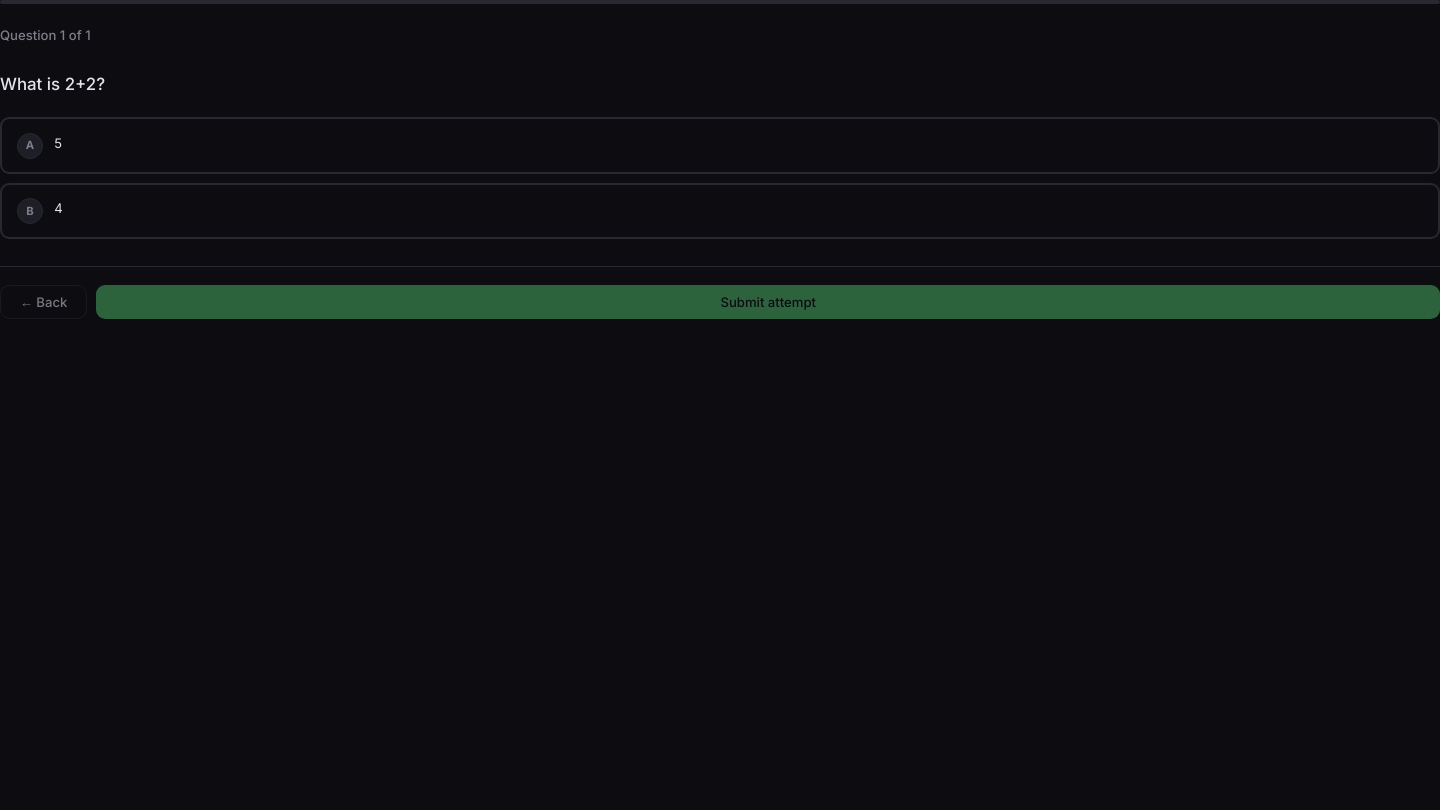
Test: AttemptFlow — attempt saving › skips DB insert when userId is null
Click the text "4" at (59, 208), box [54,200,63,216]
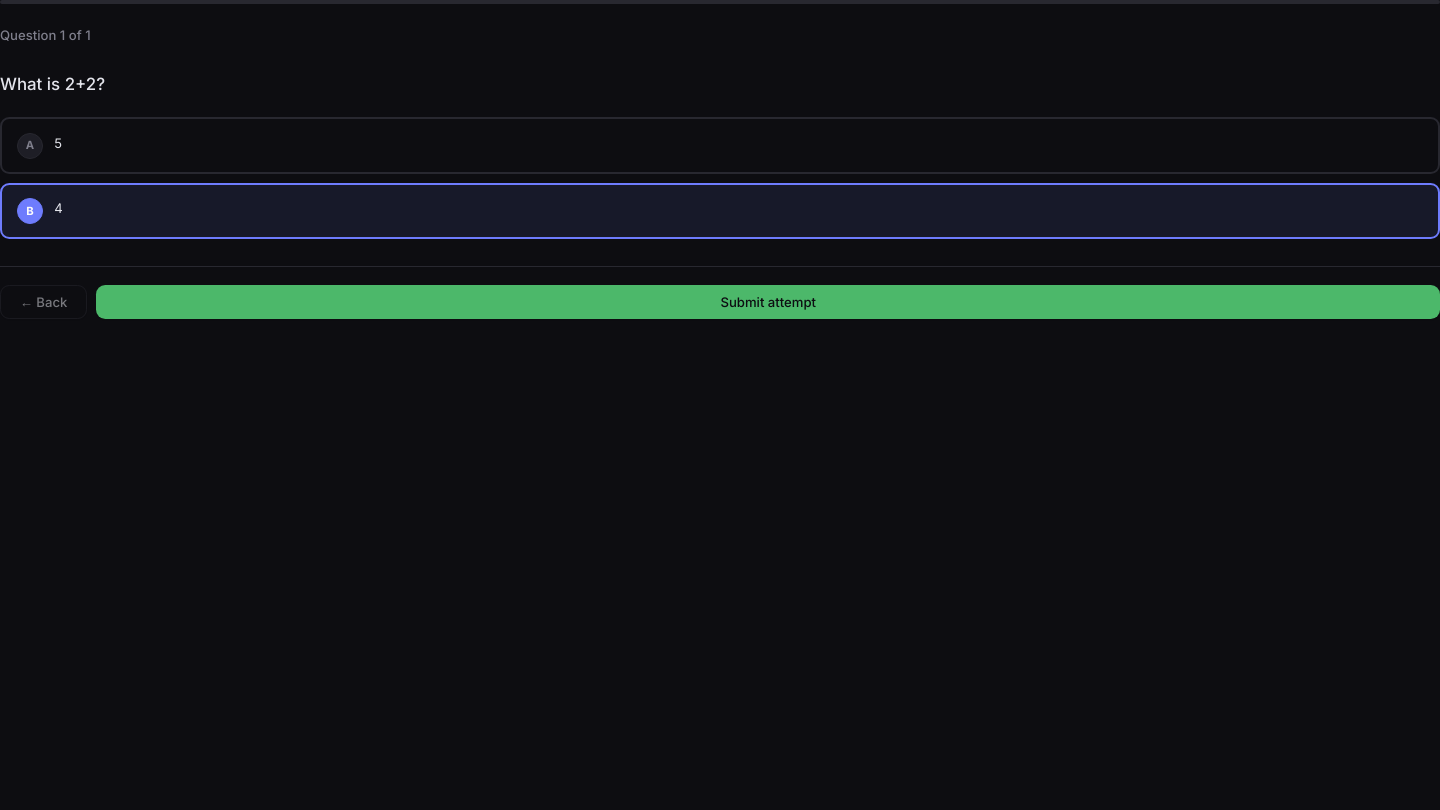
Click the button "Submit attempt" at (768, 302), box [96,285,1439,319]
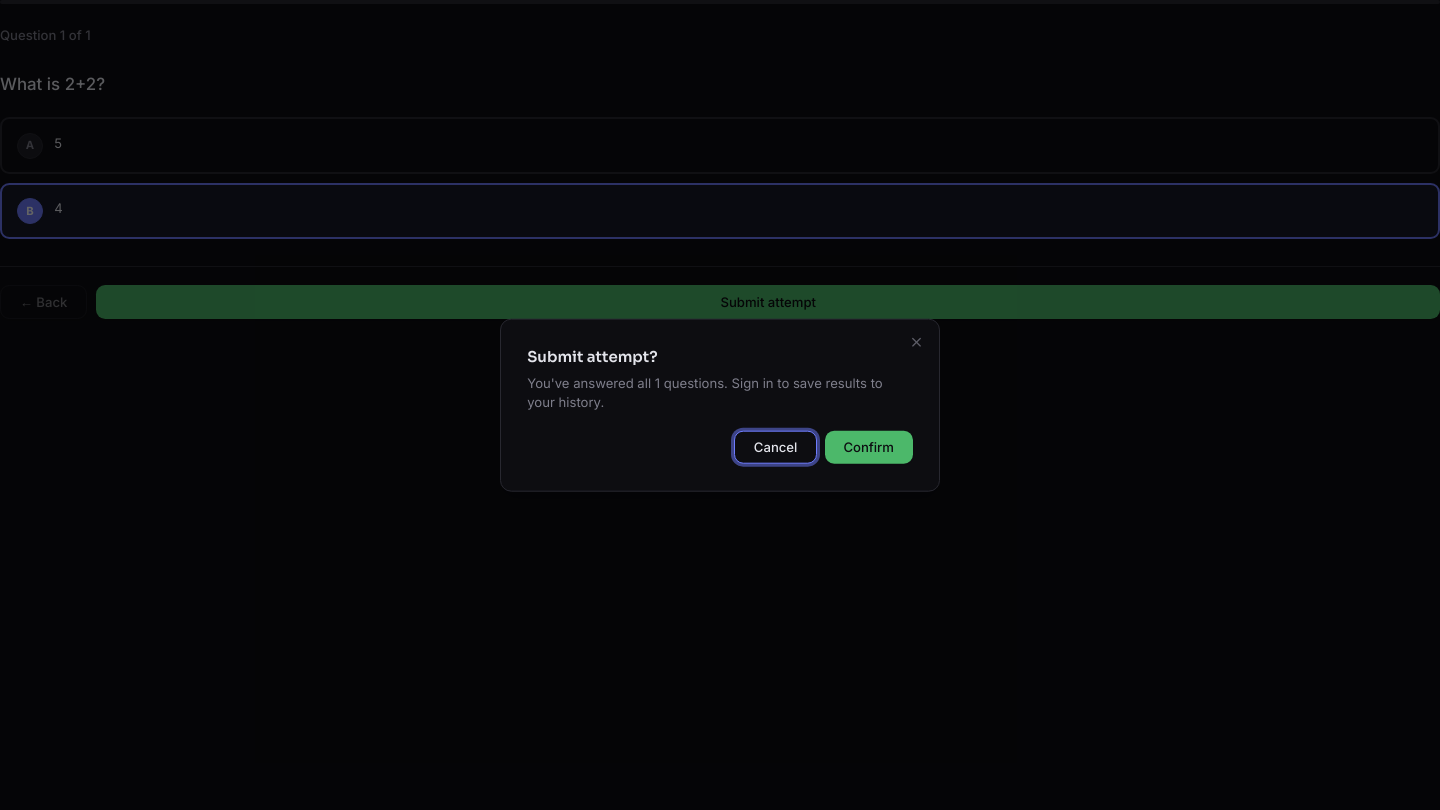
Click the button "Confirm" at (869, 447), box [825,430,913,464]
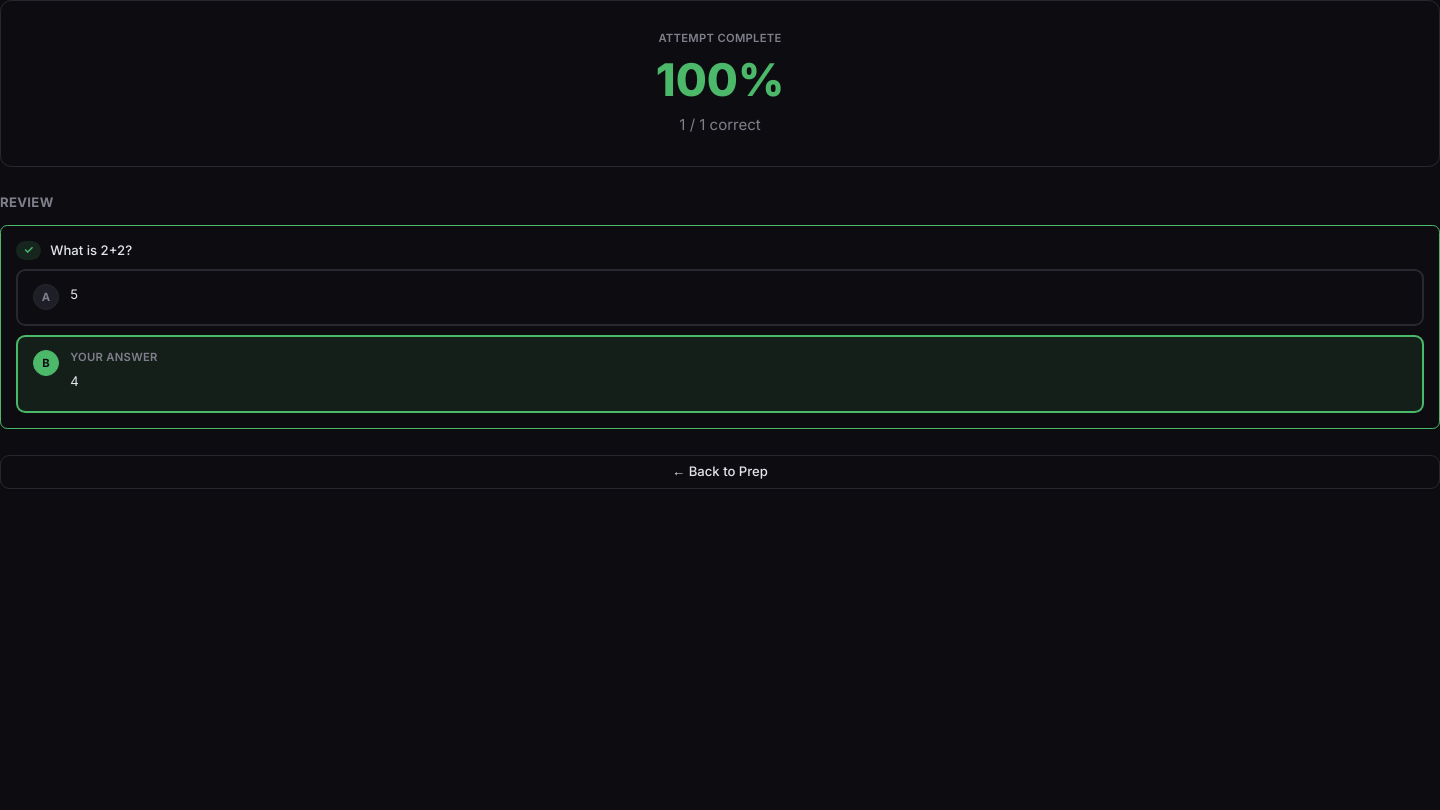
Expected: the text "Attempt complete" is shown, [658,31,782,46]
